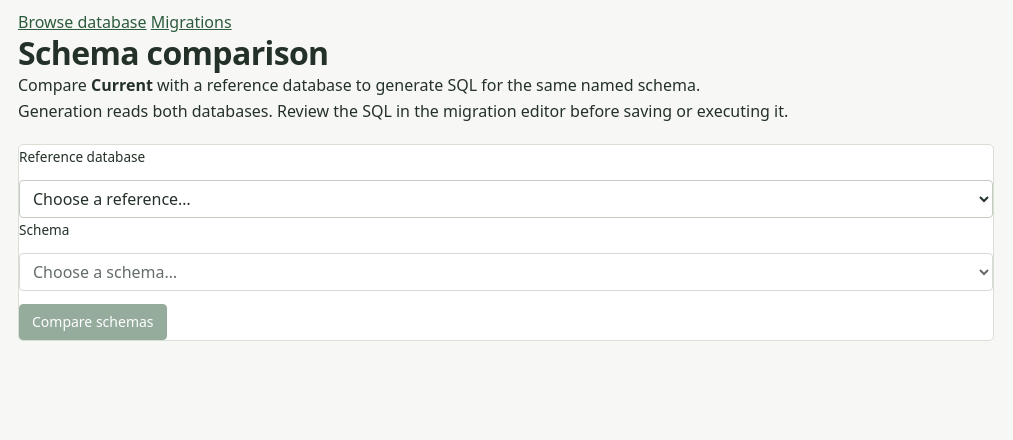
it: reports equal schemas without offering an empty migration
Select "Reference" in the dropdown labelled "Reference database" at (506, 199), box [19,180,993,218]
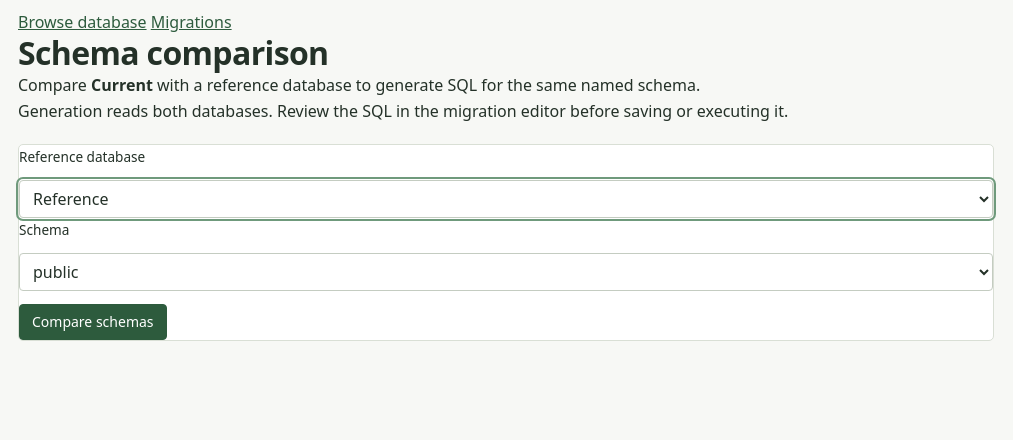
Click the button "Compare schemas" at (93, 322), box [19,304,166,340]
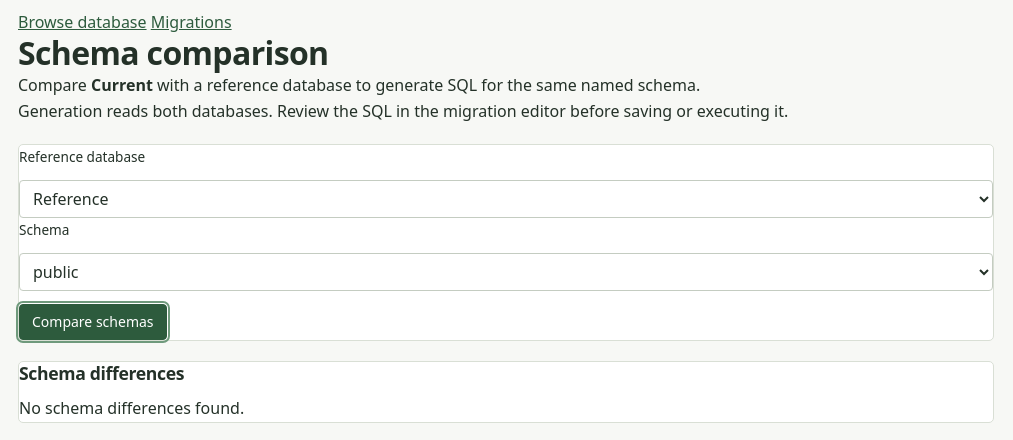
Expected: the text "No schema differences found." is shown, [19,397,244,419]
